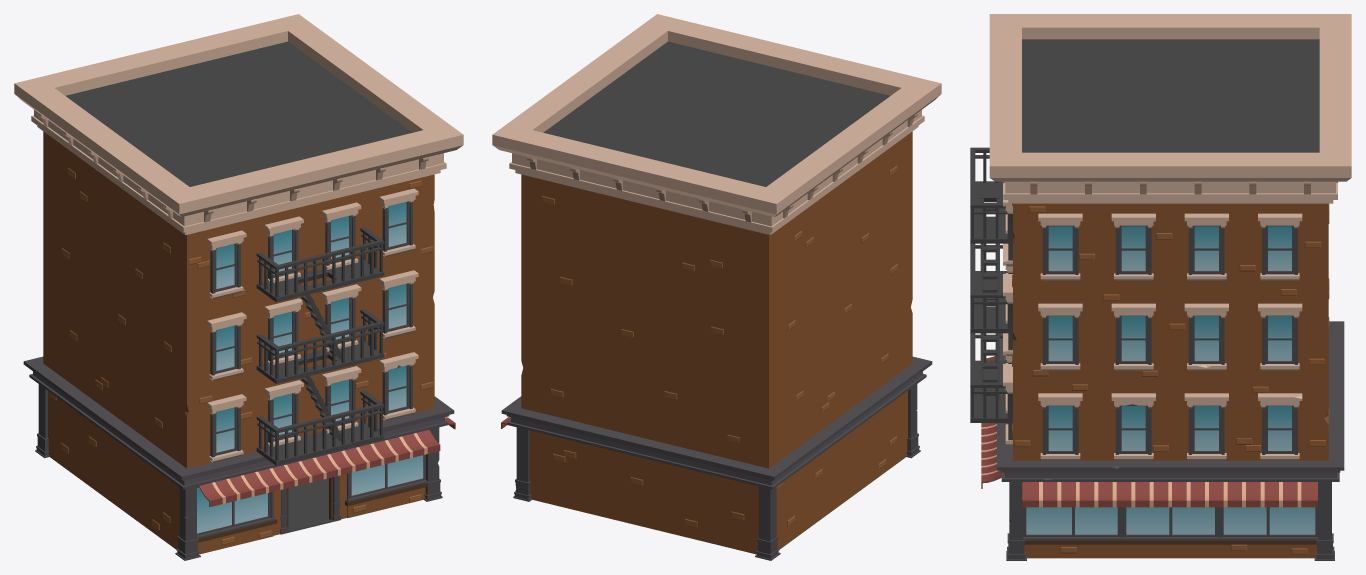
File: SM_Buildings_House_12_V1.fbx
3 views of the same model, side by side, from view 1: azimuth 30°, elevation 25°; view 2: azimuth 150°, elevation 25°; view 3: azimuth 270°, elevation 25° (orthographic). The views are drawn at different scales.
Visible parts, largest first — view 1: SM_Buildings_House_12_V1; view 2: SM_Buildings_House_12_V1; view 3: SM_Buildings_House_12_V1.
Boxes of the visible parts, box(x1,y1,x2,y2) form: SM_Buildings_House_12_V1: box(14, 14, 463, 560); SM_Buildings_House_12_V1: box(492, 14, 941, 560); SM_Buildings_House_12_V1: box(970, 14, 1351, 560).
Bounding box in the file's own units: 15 × 18 × 15.5.
